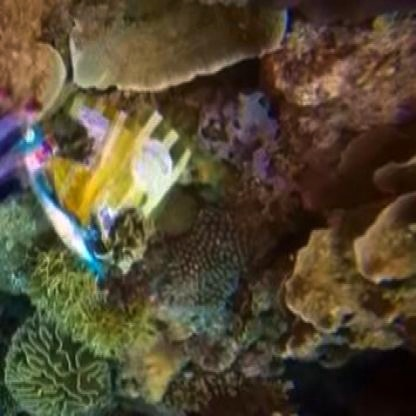plastic: (36, 105, 191, 281)
